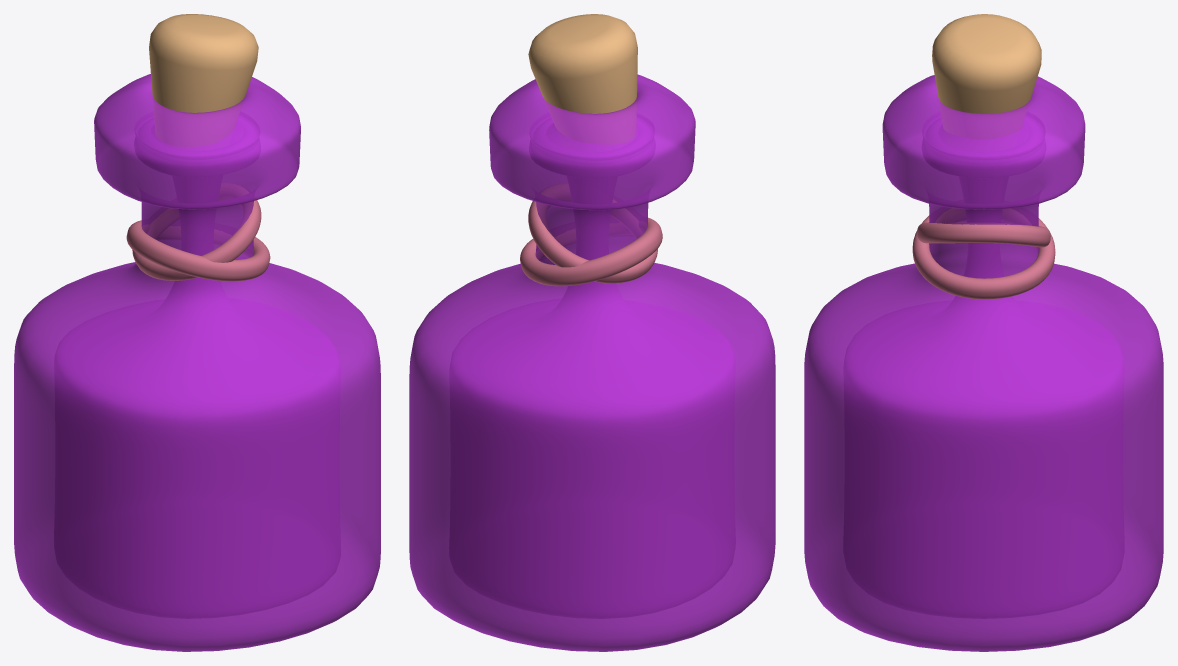
The model's file is iksir-glass.fbx.
3 renders of one model, left to right at view 1: azimuth 30°, elevation 25°; view 2: azimuth 150°, elevation 25°; view 3: azimuth 270°, elevation 25°, orthographic.
Visible parts, largest first — view 1: bottle.003, cork.003, ribbon2.005, ribbon2.006; view 2: bottle.003, cork.003, ribbon2.005, ribbon2.006; view 3: bottle.003, cork.003, ribbon2.005, ribbon2.006.
Part boxes in pixels (x1,y1,x2,y2): bottle.003: (14,74,380,651); cork.003: (149,14,258,146); ribbon2.005: (126,220,270,281); ribbon2.006: (132,183,261,280); bottle.003: (409,74,775,651); cork.003: (528,14,637,144); ribbon2.005: (520,217,662,286); ribbon2.006: (528,183,657,283); bottle.003: (804,75,1163,651); cork.003: (932,14,1041,139); ribbon2.005: (912,208,1055,299); ribbon2.006: (917,222,1050,247).
Size of the model in its own units: 183 by 319 by 183.
